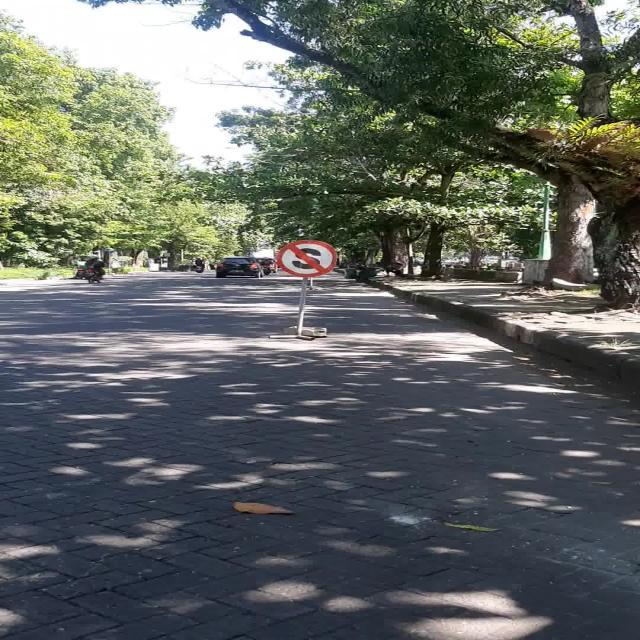Dilarang Berhenti: (277, 240, 337, 278)
